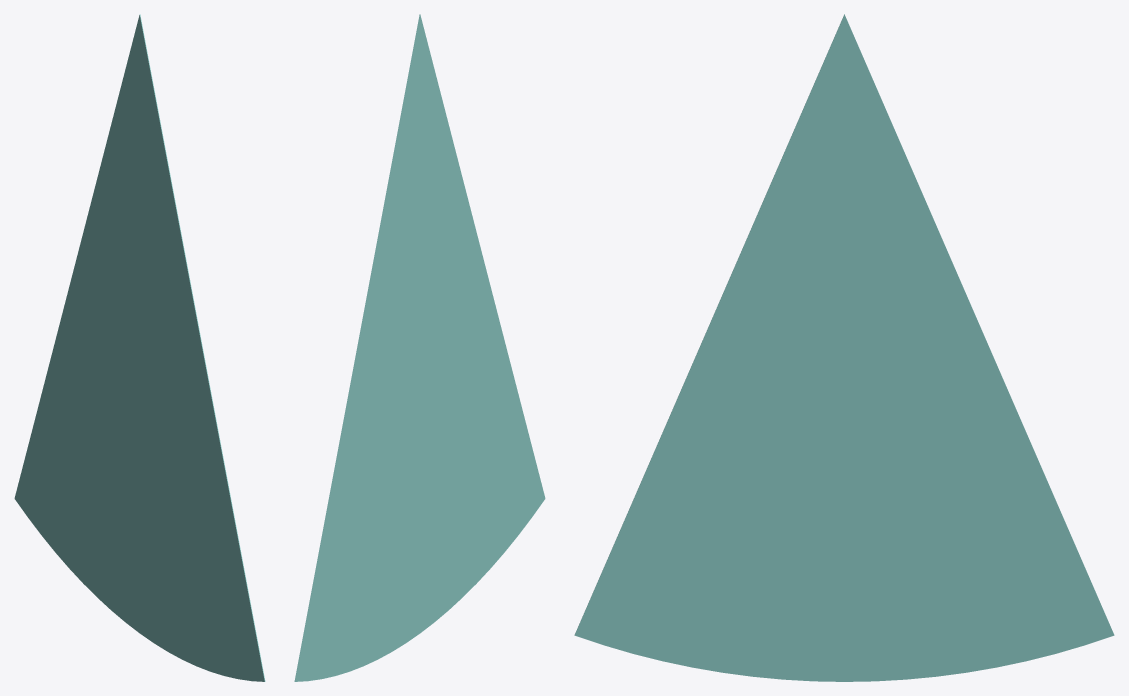
File: Kinect_beam.gltf
3 views of the same model, side by side, from view 1: azimuth 30°, elevation 25°; view 2: azimuth 150°, elevation 25°; view 3: azimuth 270°, elevation 25° (orthographic). The views are drawn at different scales.
Visible parts, largest first — view 1: mesh76, mesh74; view 2: mesh76, mesh73; view 3: mesh72.
Part boxes in pixels (<box>): mesh76: <box>14,15,264,681</box>; mesh74: <box>139,14,265,681</box>; mesh76: <box>295,15,545,681</box>; mesh73: <box>294,14,420,681</box>; mesh72: <box>574,14,1114,681</box>.
Size of the model in its own units: 0.001 by 1 by 0.733.
